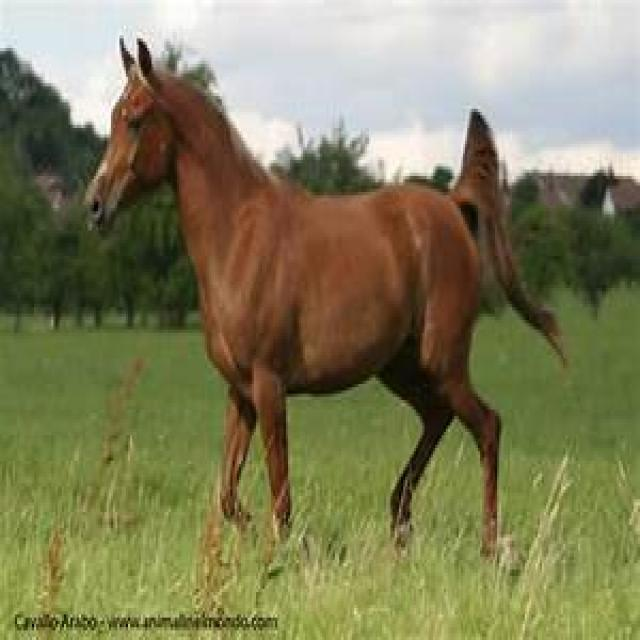horse: (81, 32, 568, 602)
